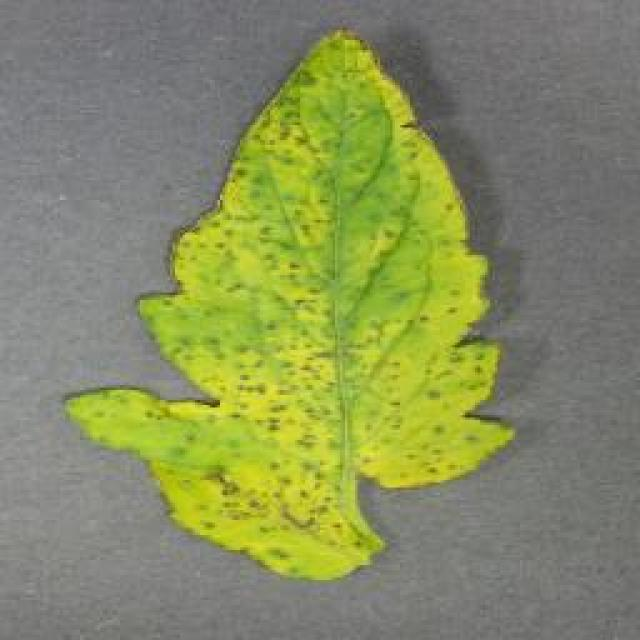bacterial spot: (60, 28, 522, 585)
